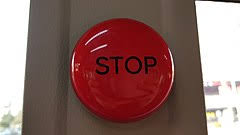bell: (68, 18, 178, 124)
